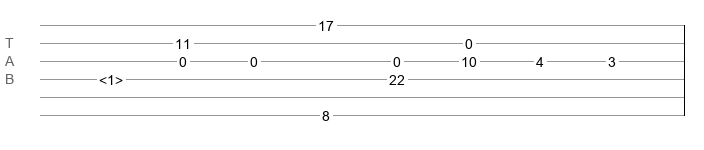0: (179, 54, 187, 64), (250, 54, 258, 64), (393, 54, 401, 64), (465, 36, 473, 46)
10: (461, 54, 477, 64)
11: (175, 36, 191, 46)
17: (318, 18, 334, 28)
22: (389, 72, 405, 82)
3: (608, 54, 616, 64)
4: (536, 54, 544, 64)
8: (322, 108, 330, 118)
harmonic: (99, 72, 123, 82)
